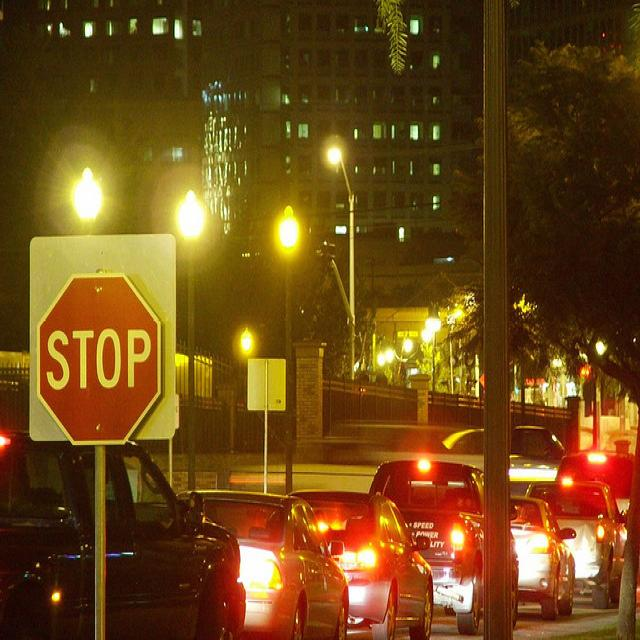Vehicle: (0, 429, 248, 640), (288, 486, 435, 640), (202, 492, 351, 639), (368, 460, 484, 633), (526, 479, 626, 611), (509, 494, 579, 619), (553, 450, 634, 526), (510, 425, 566, 464)
